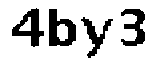3: (115, 4, 150, 52)
4: (7, 1, 45, 49)
b: (48, 5, 78, 54)
y: (79, 11, 116, 60)
